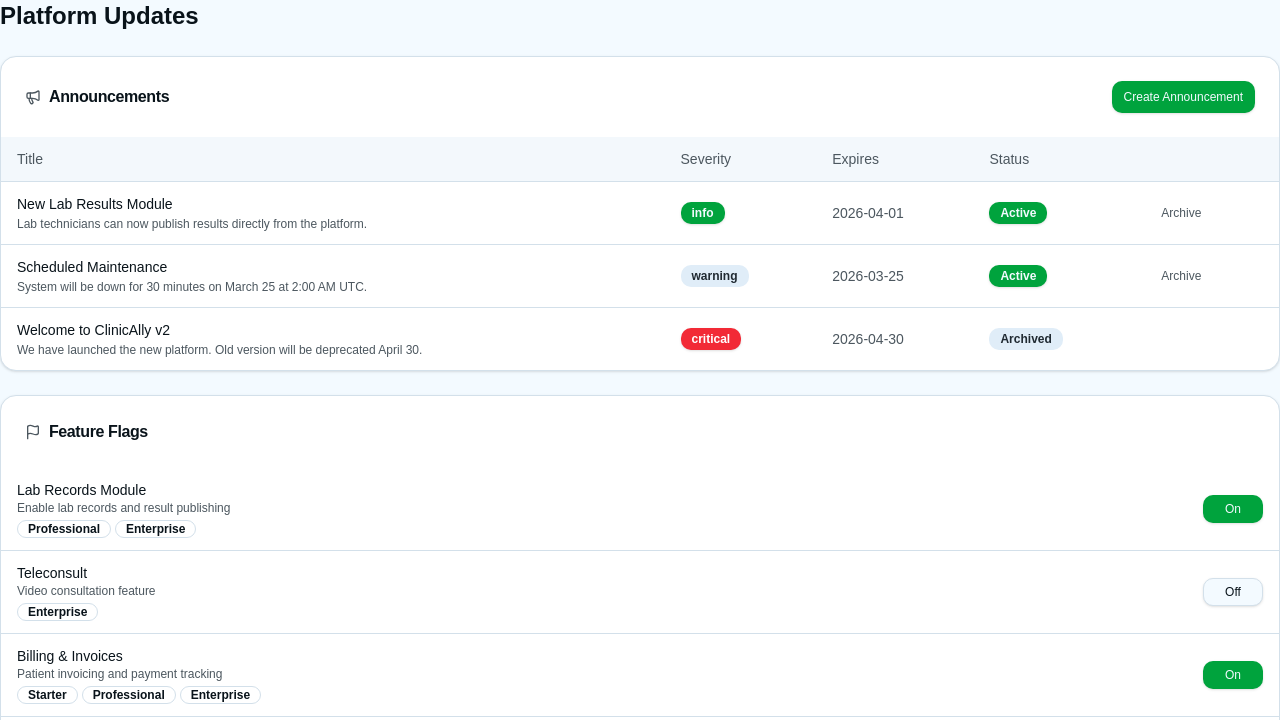
Test case: PlatformUpdatesPage › Create Announcement button opens the sheet form
Click the button "Create Announcement" at coordinates (1183, 97), box x1=1112 y1=81 x2=1255 y2=113
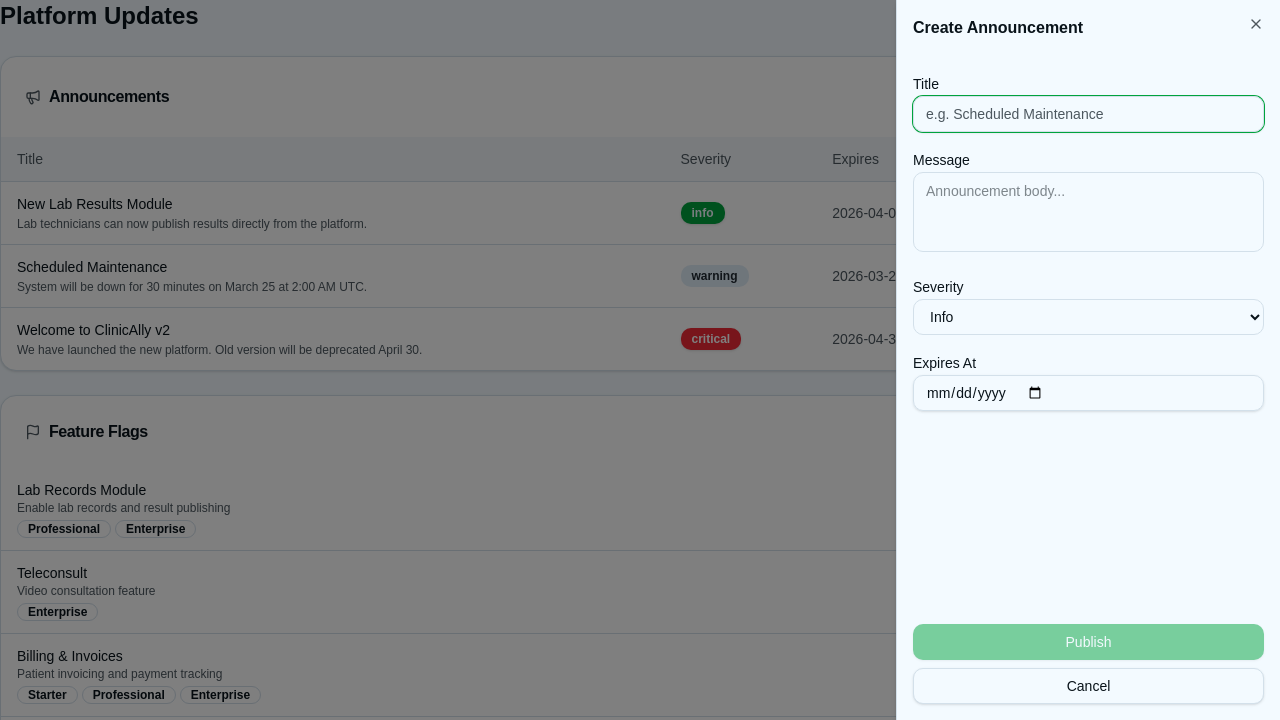
expect the field labelled "Title" is shown: met, box x1=913 y1=96 x2=1264 y2=132
